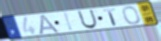4: (23, 16, 37, 36)
A: (39, 13, 62, 35)
I: (64, 11, 75, 32)
O: (121, 6, 142, 25)
T: (102, 7, 119, 27)
U: (77, 9, 99, 30)
